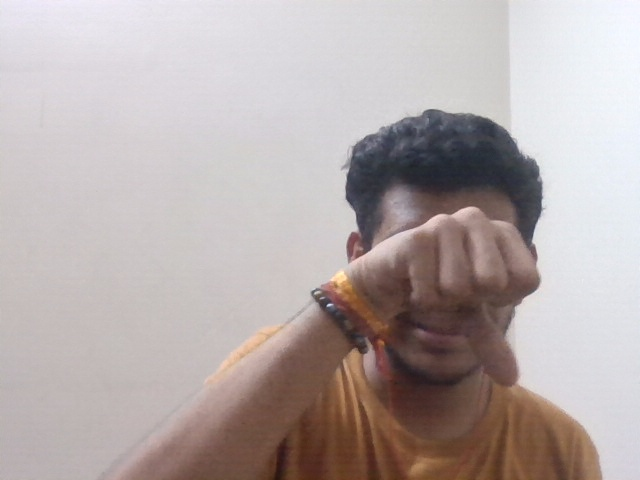yes: (355, 206, 589, 395)
